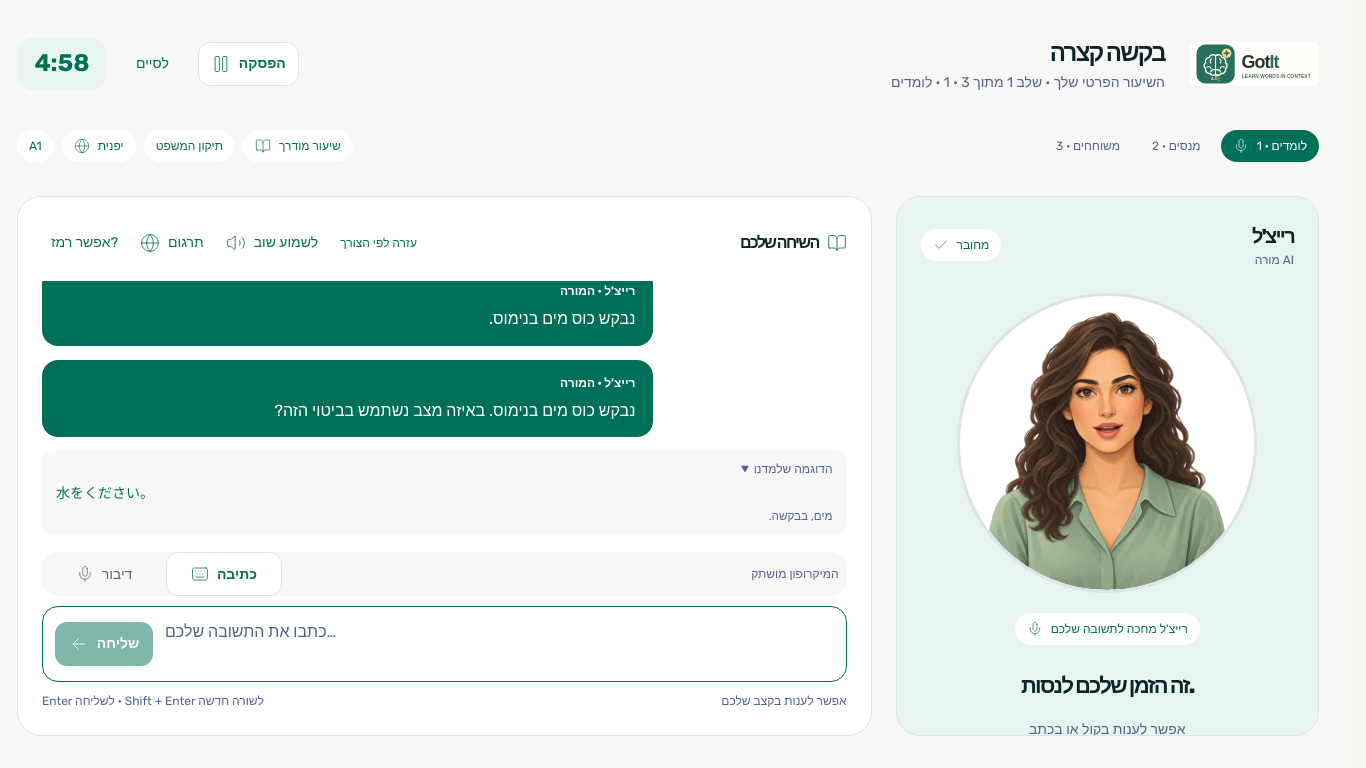
Test: reviews an edited transcript without recording another learning answer, and preserves the draft on failure
(page scrolled)
Click the button "עזרה לפי הצורך" at (379, 243), box top-left (331, 221), bottom-right (426, 265)
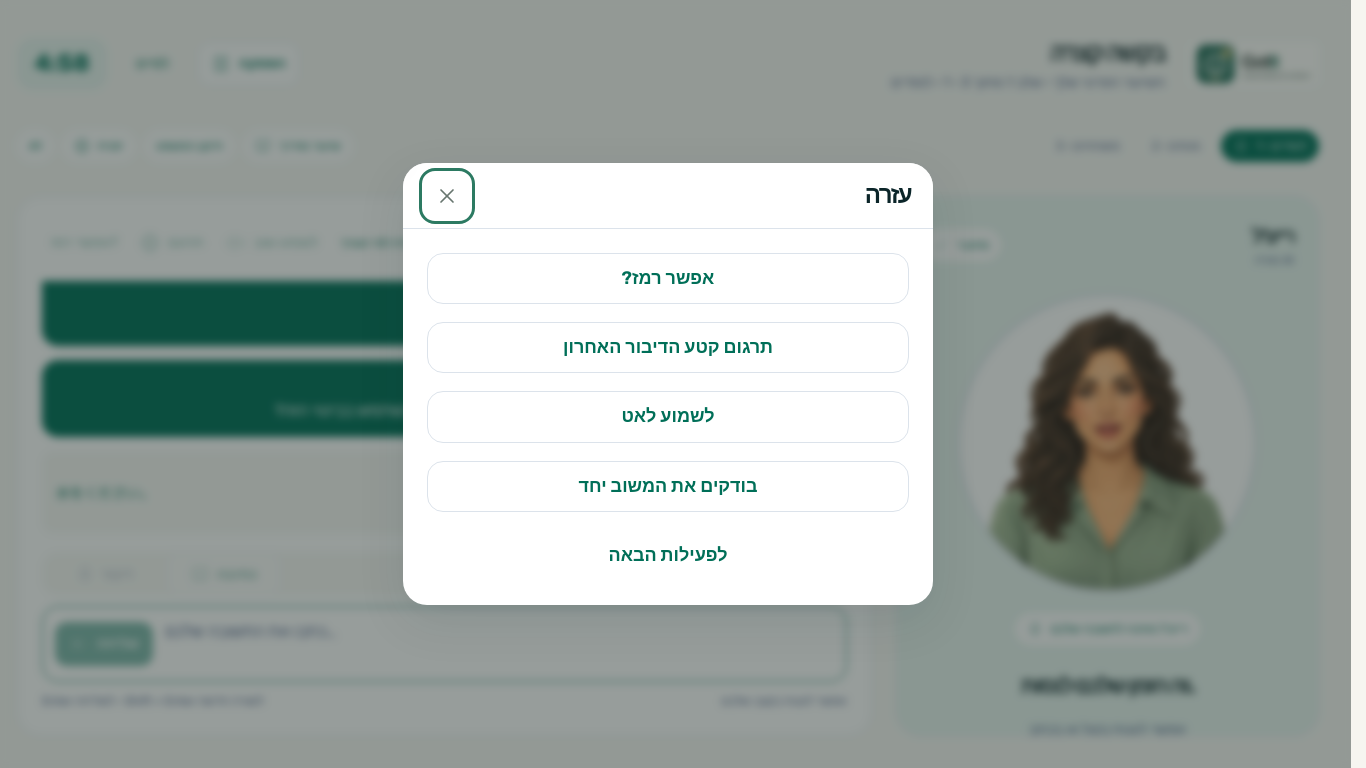
Click the button "בודקים את המשוב יחד" at (668, 486), box top-left (427, 461), bottom-right (909, 512)
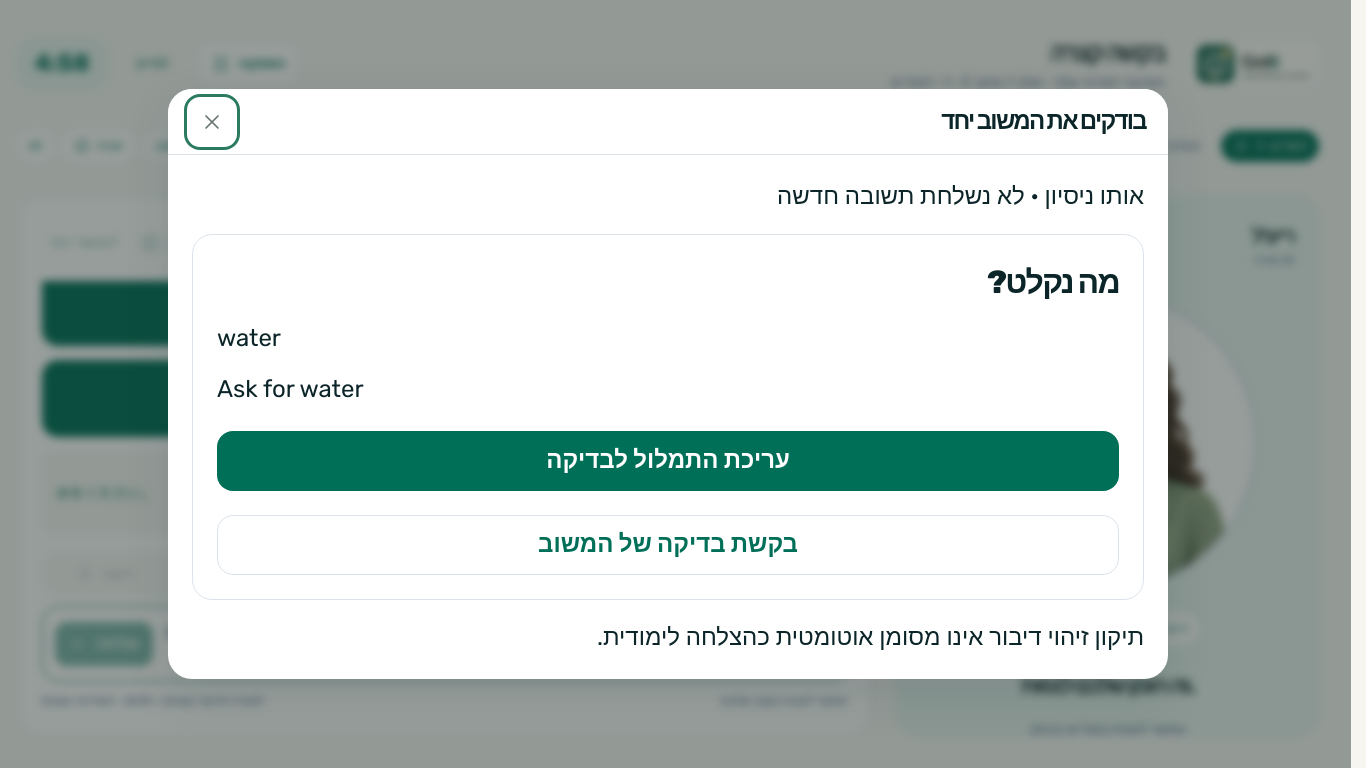
Click the button "עריכת התמלול לבדיקה" at (668, 461), box top-left (217, 431), bottom-right (1119, 491)
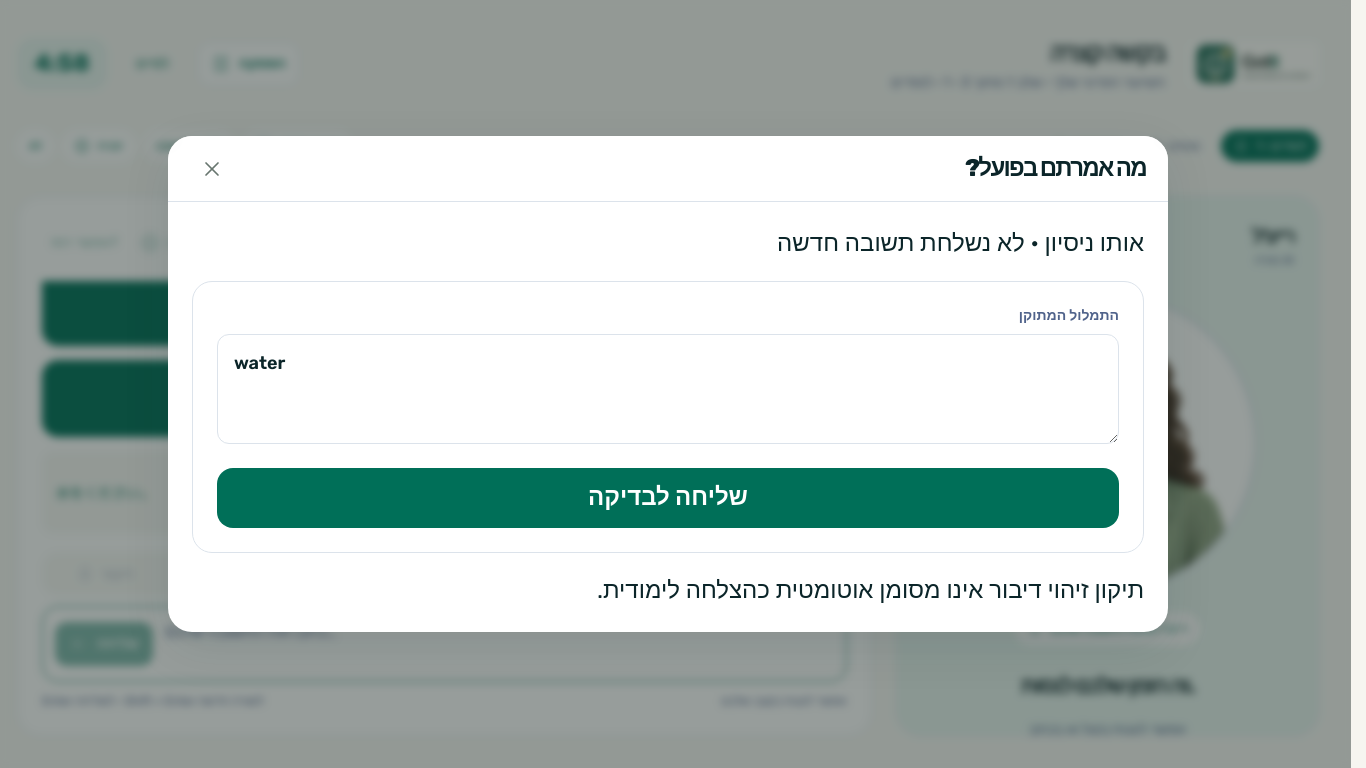
Replace the text in the text box labelled "התמלול המתוקן" with "Water, please." at (668, 389), box top-left (217, 334), bottom-right (1119, 444)
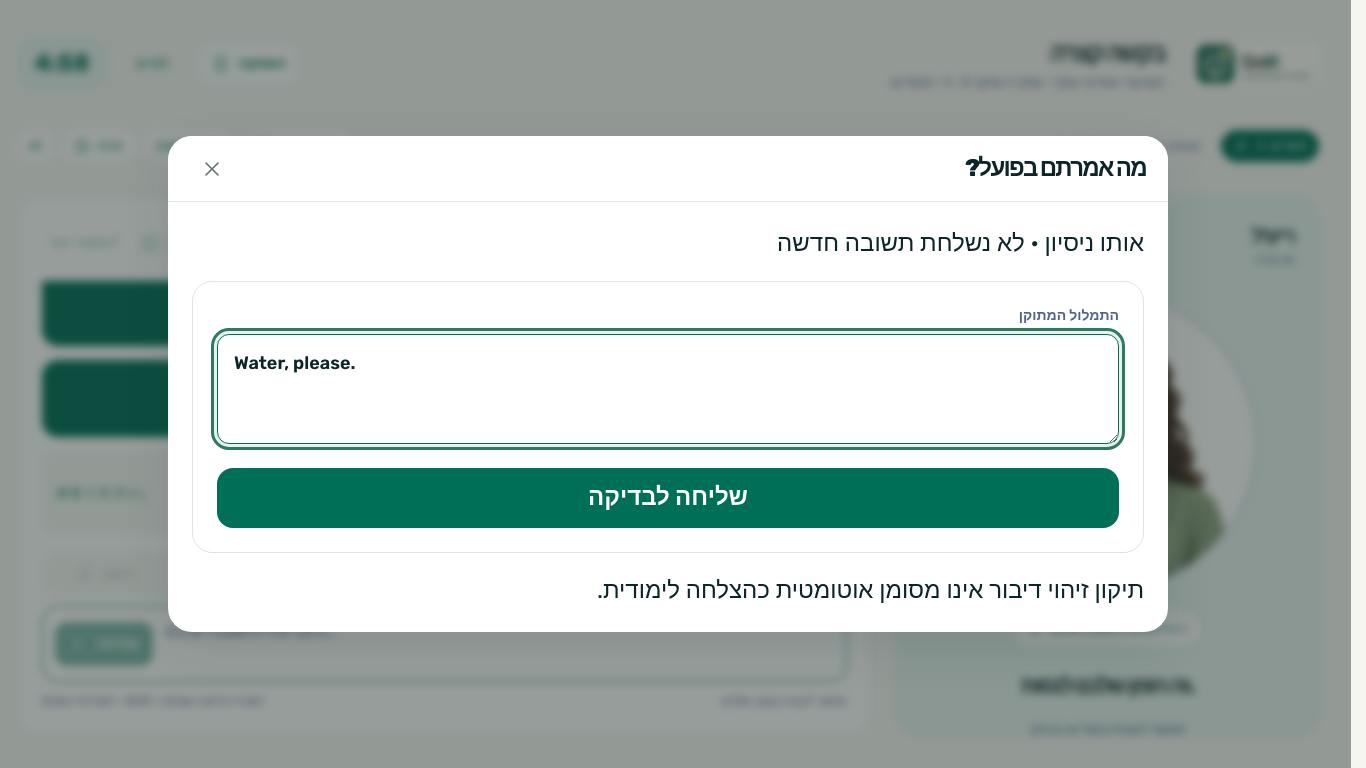
Click the button "שליחה לבדיקה" at (668, 498), box top-left (217, 468), bottom-right (1119, 528)
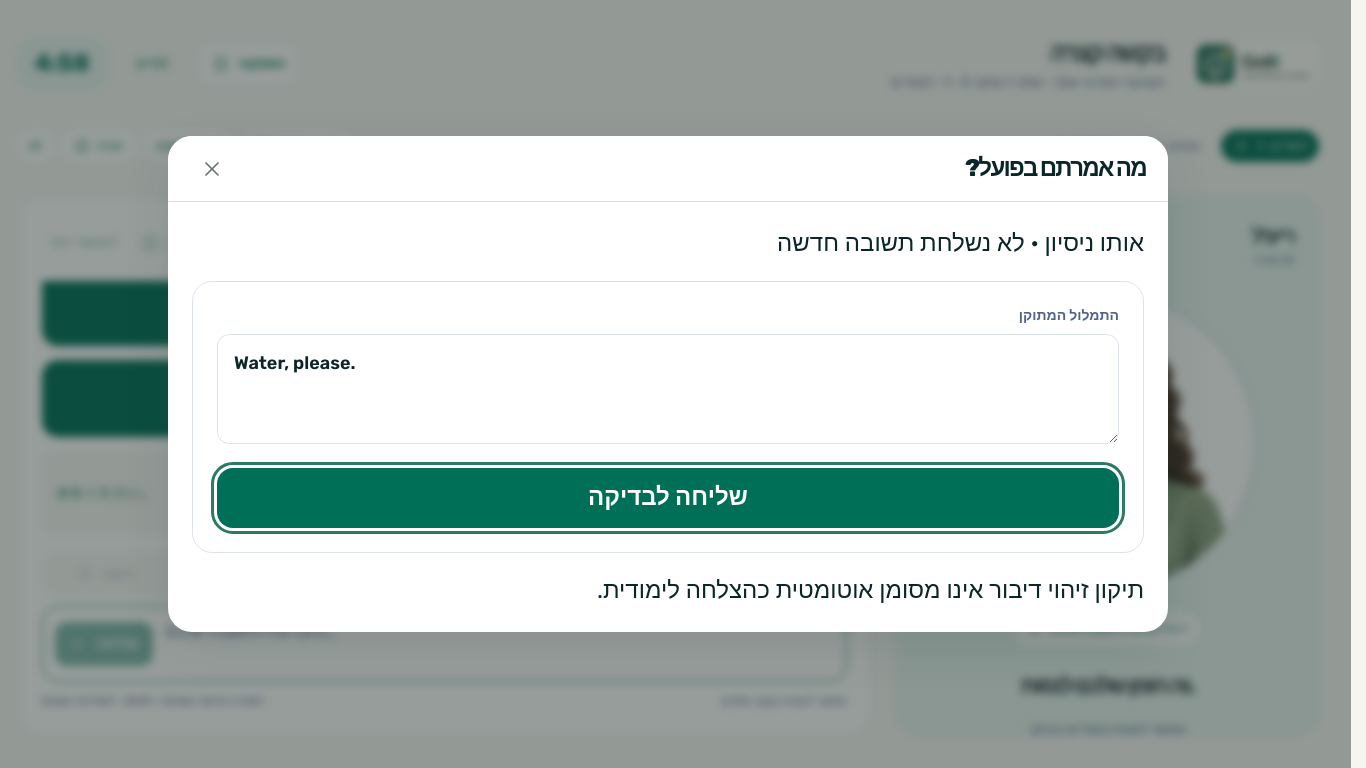
Click the button "שליחה לבדיקה" at (668, 498), box top-left (217, 468), bottom-right (1119, 528)
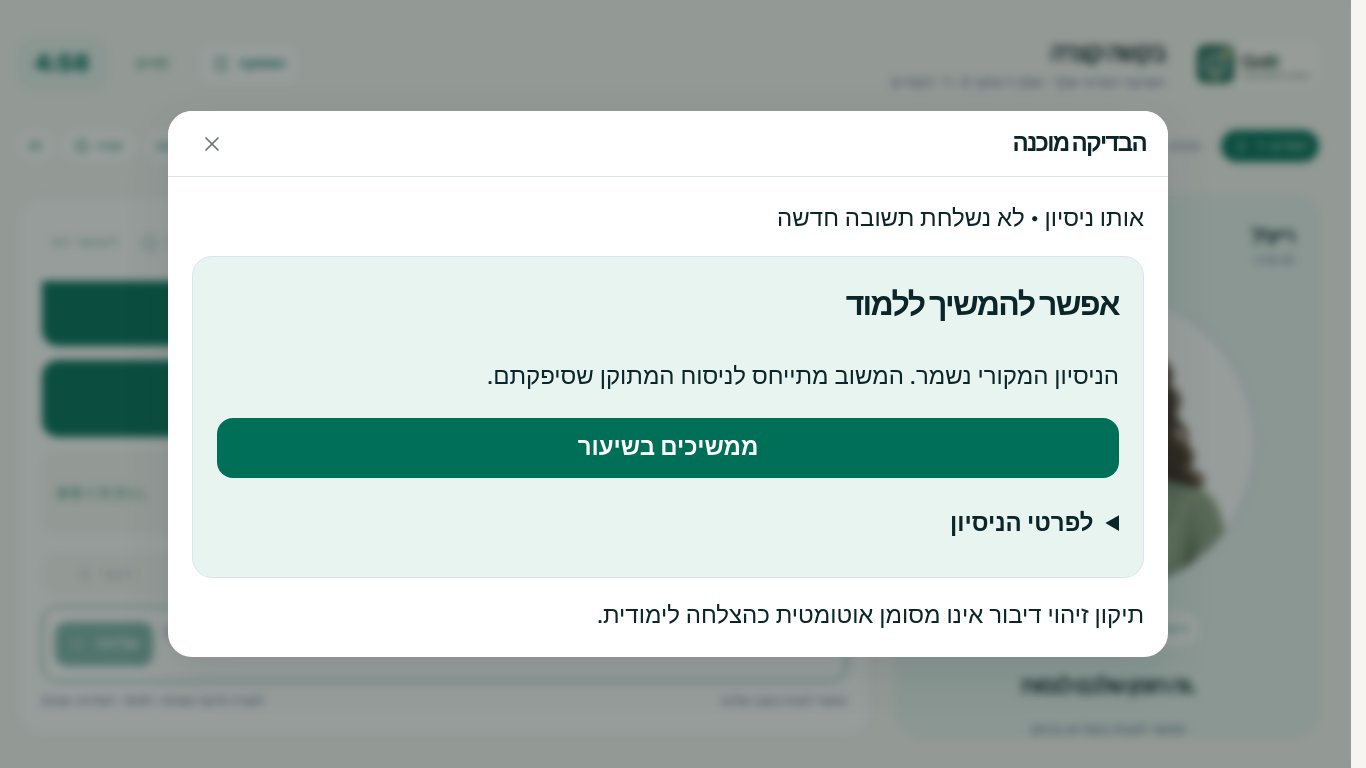
Expected: the text "הניסיון המקורי נשמר. המשוב מתייחס לניסוח המתוקן שסיפקתם." is shown, top-left (487, 362), bottom-right (1119, 390)
